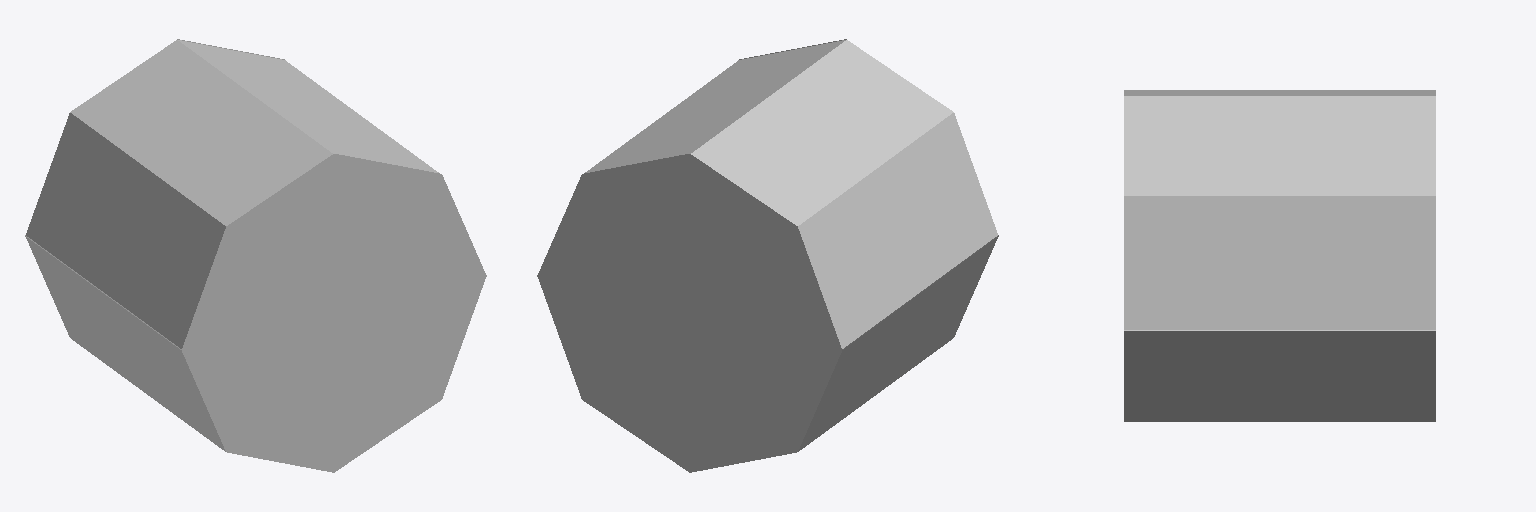
3 views of the same model, side by side, from view 1: azimuth 30°, elevation 25°; view 2: azimuth 150°, elevation 25°; view 3: azimuth 270°, elevation 25° (orthographic).
Parts seen in each view (by area): view 1: pakistani folding octagonal table; view 2: pakistani folding octagonal table; view 3: pakistani folding octagonal table.
Part boxes in pixels (left/top/right/bottom): pakistani folding octagonal table: left=25, top=39, right=486, bottom=472; pakistani folding octagonal table: left=537, top=39, right=998, bottom=472; pakistani folding octagonal table: left=1124, top=90, right=1435, bottom=421.
Bounding box in the file's own units: 17.05 × 17.05 × 15.12.